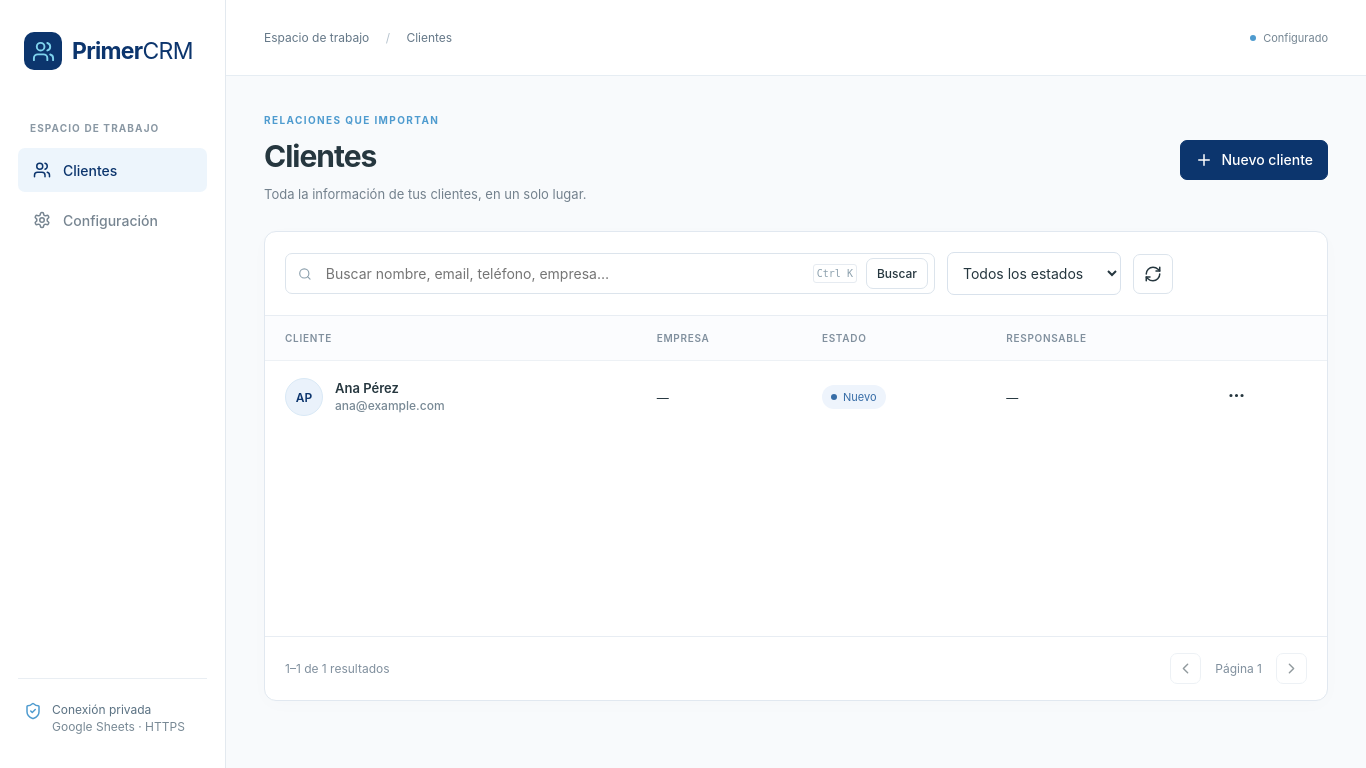
it: CRM workflows with a mocked bridge; never calls Google › ignores stale search responses
expect the button "AP Ana Pérez ana@example.com" is shown: met, box [285, 378, 444, 416]
Type "old" into the field named "Buscar clientes" at (562, 274), box [321, 260, 804, 287]
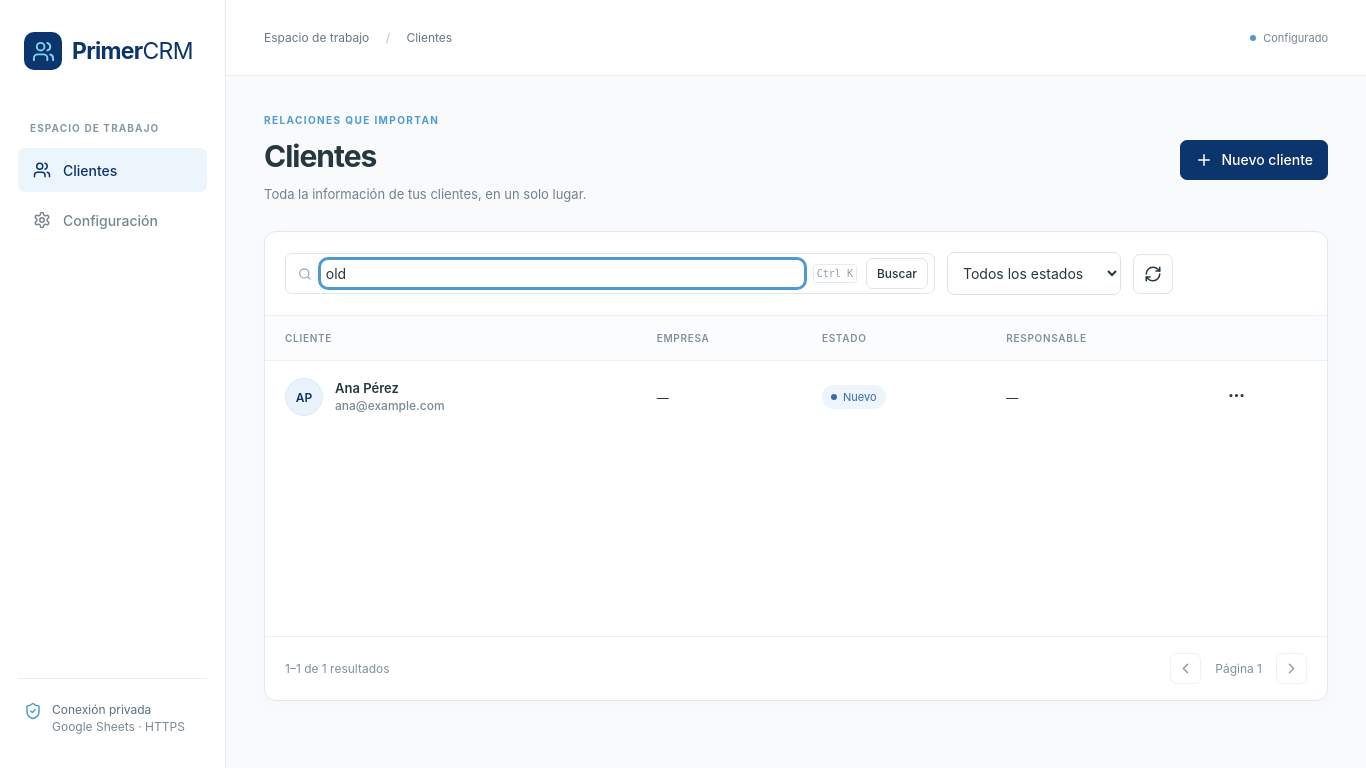
Click the button "Buscar" at (897, 274), box [866, 258, 928, 289]
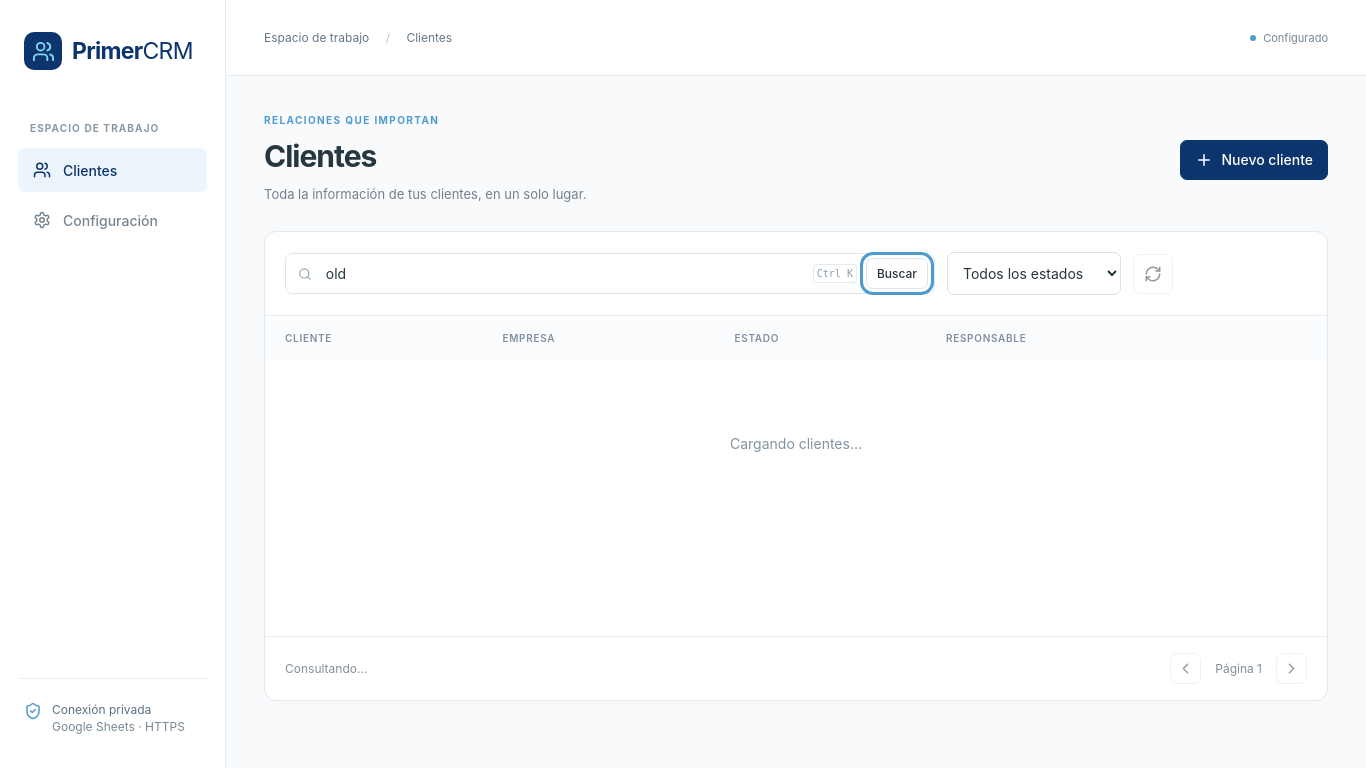
Replace the text in the field named "Buscar clientes" with "new" at (562, 274), box [321, 260, 804, 287]
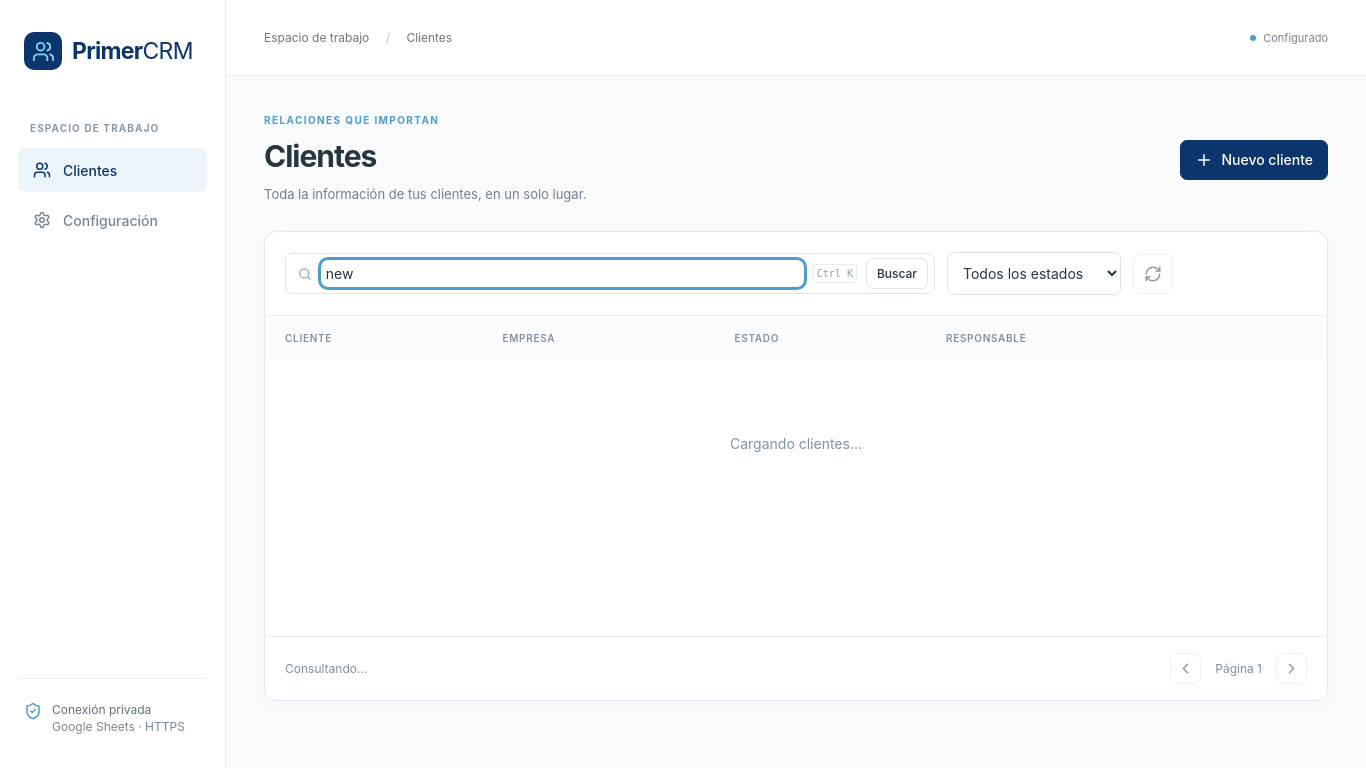
Click the button "Buscar" at (897, 274), box [866, 258, 928, 289]
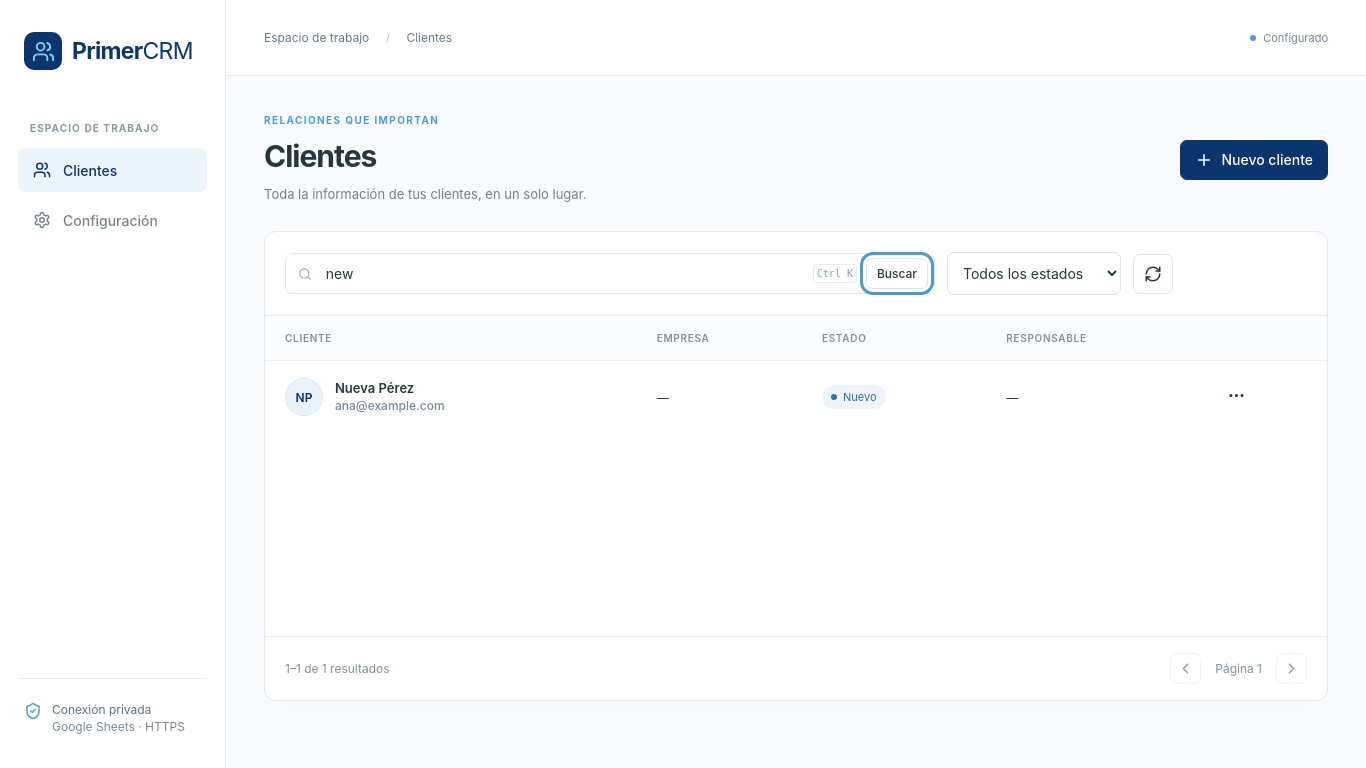
expect the button "NP Nueva Pérez ana@example.com" is shown: met, box [285, 378, 444, 416]
